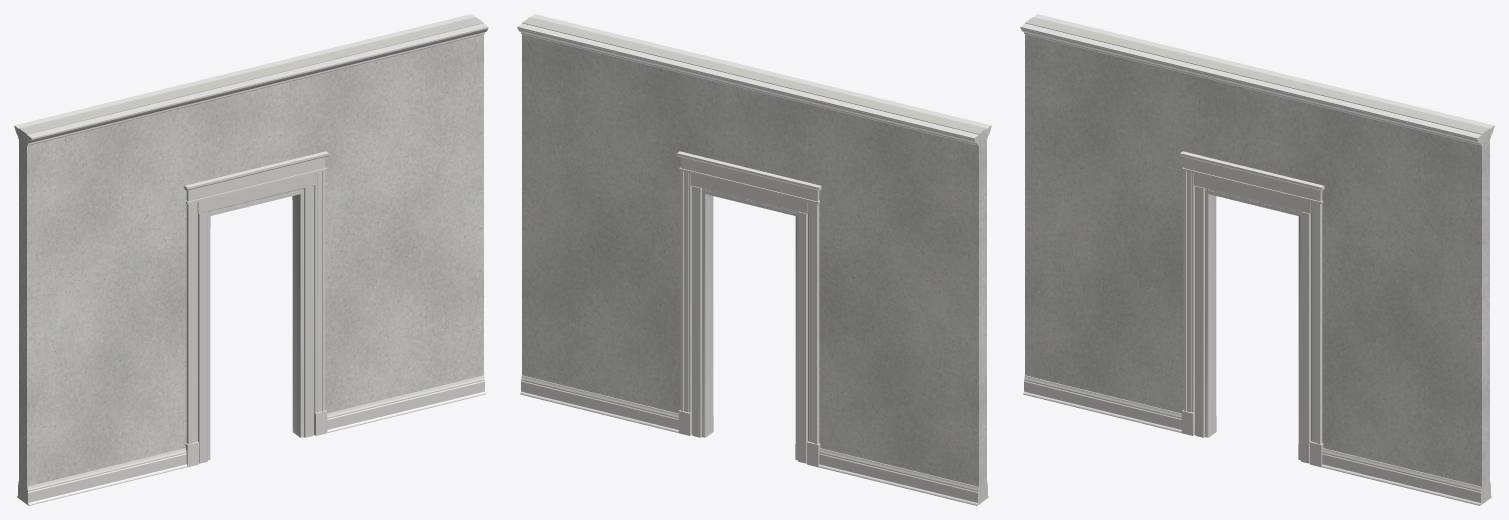
3 renders of one model, left to right at view 1: azimuth 30°, elevation 25°; view 2: azimuth 150°, elevation 25°; view 3: azimuth 330°, elevation 25°, orthographic.
Visible parts, largest first — view 1: cw_406_d_plaster, molduras, cw_406_d_frame; view 2: cw_406_d_plaster, molduras, cw_406_d_frame; view 3: cw_406_d_plaster, molduras, cw_406_d_frame.
Boxes of the visible parts, <box> form: cw_406_d_plaster: <box>19,17,483,504</box>; molduras: <box>14,14,488,505</box>; cw_406_d_frame: <box>197,173,315,463</box>; cw_406_d_plaster: <box>522,17,986,504</box>; molduras: <box>517,14,991,505</box>; cw_406_d_frame: <box>690,173,808,463</box>; cw_406_d_plaster: <box>1025,17,1489,504</box>; molduras: <box>1020,14,1494,505</box>; cw_406_d_frame: <box>1193,173,1311,463</box>.
Bounding box in the file's own units: 4.06 × 3.14 × 0.27.
3 materials, 1 textured.
